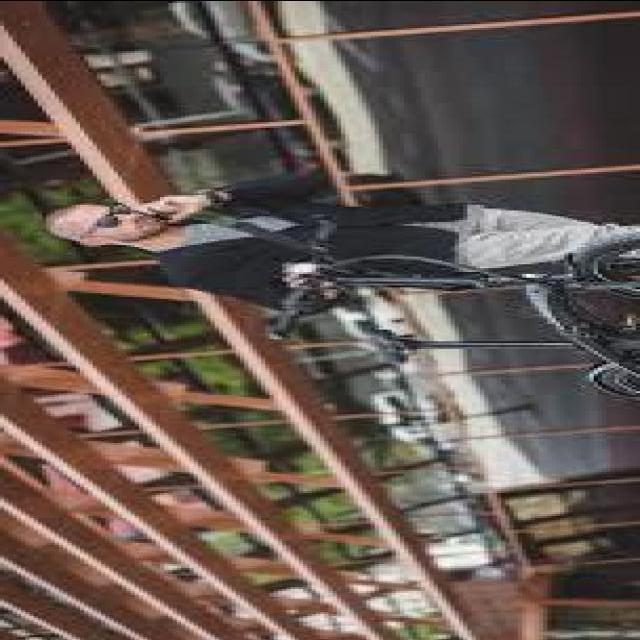bicycle: (283, 243, 640, 407)
